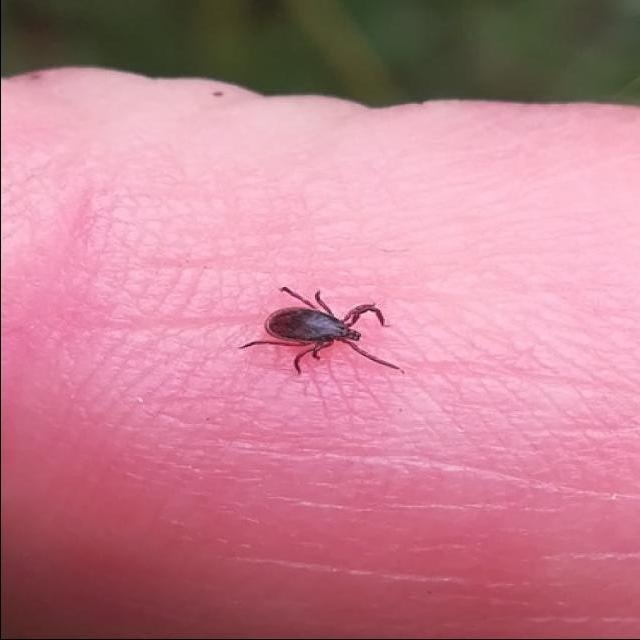Ixodes Ricinus-M: (241, 289, 399, 376)
